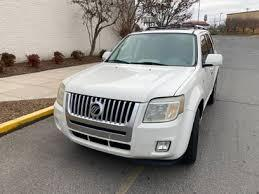Mercury: (86, 96, 108, 124)
